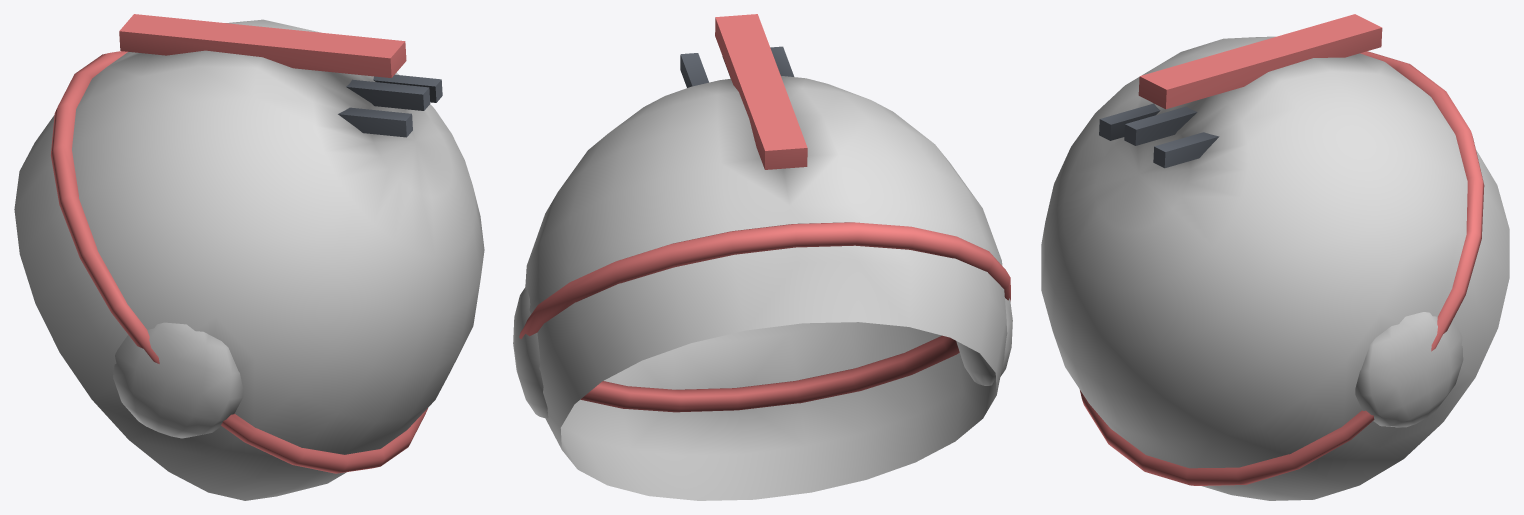
The model's file is hockey_head.fbx.
The picture shows the model from 3 angles, left to right: view 1: azimuth 30°, elevation 25°; view 2: azimuth 150°, elevation 25°; view 3: azimuth 270°, elevation 25°; orthographic projection. The views are drawn at different scales.
Visible parts, largest first — view 1: hockey_head; view 2: hockey_head; view 3: hockey_head.
Part boxes in pixels (x1,y1,x2,y2): hockey_head: (14,14,484,500); hockey_head: (513,14,1012,500); hockey_head: (1041,14,1509,500).
Size of the model in its own units: 1.26 by 1.27 by 1.24.
